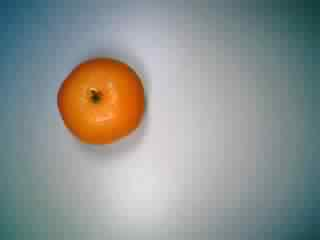orange: (52, 46, 147, 148)
